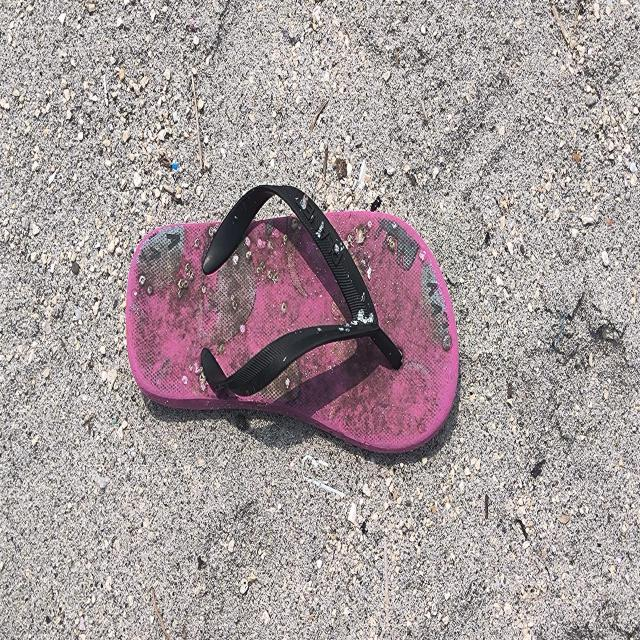rubber_waste: (127, 186, 462, 454)
